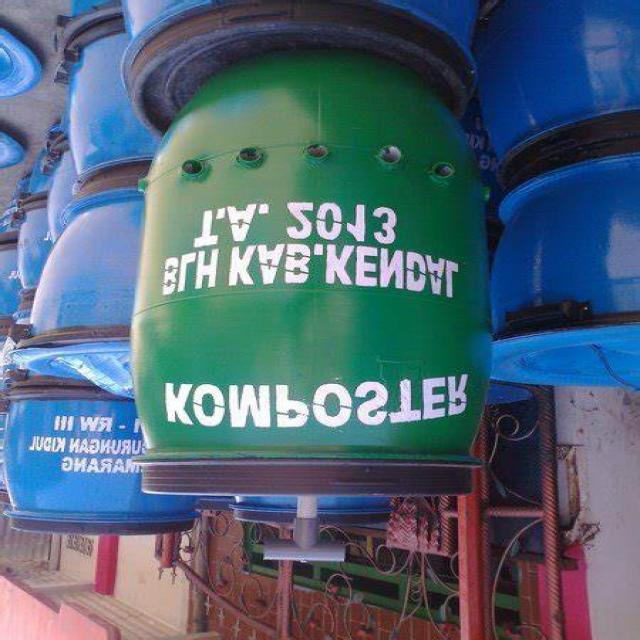garbage container: (116, 55, 608, 514)
